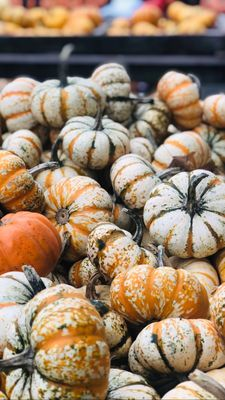salad: (127, 317, 225, 378), (0, 211, 62, 277)
